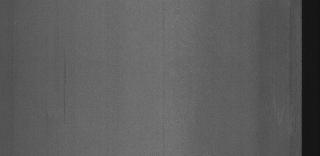silk spot: (268, 92, 296, 132)
